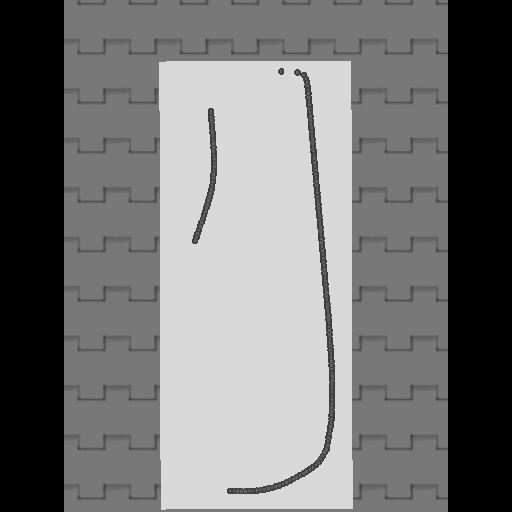Defect: (187, 238, 229, 495)
